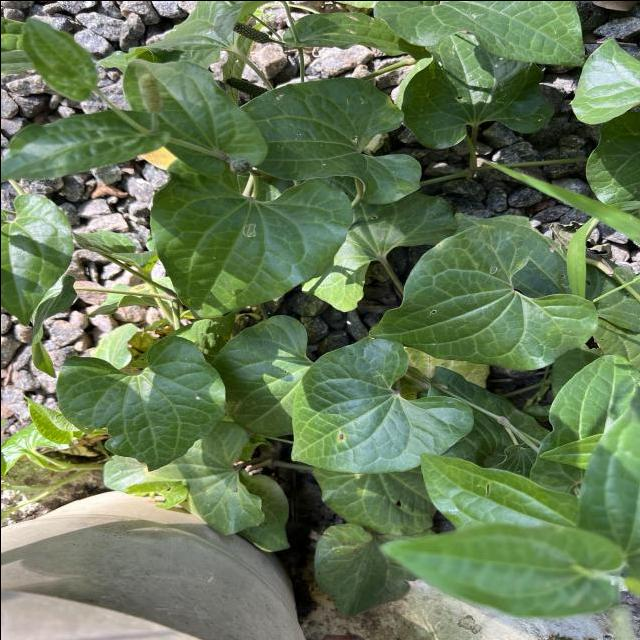Piper longum: (366, 222, 600, 372), (146, 154, 354, 321), (286, 336, 476, 474), (51, 332, 228, 475)
